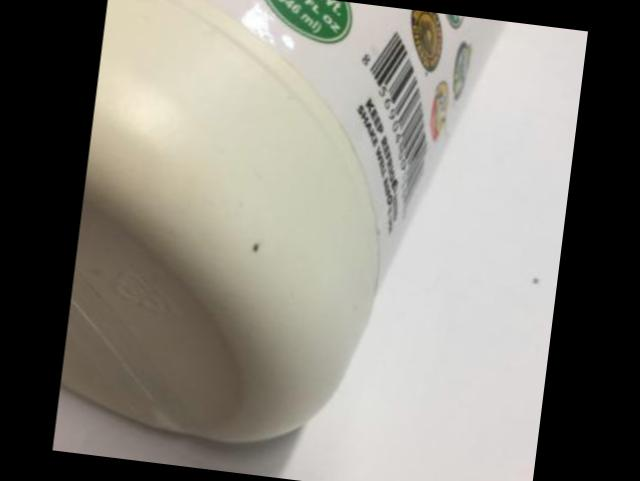plastic: (60, 0, 505, 440)
